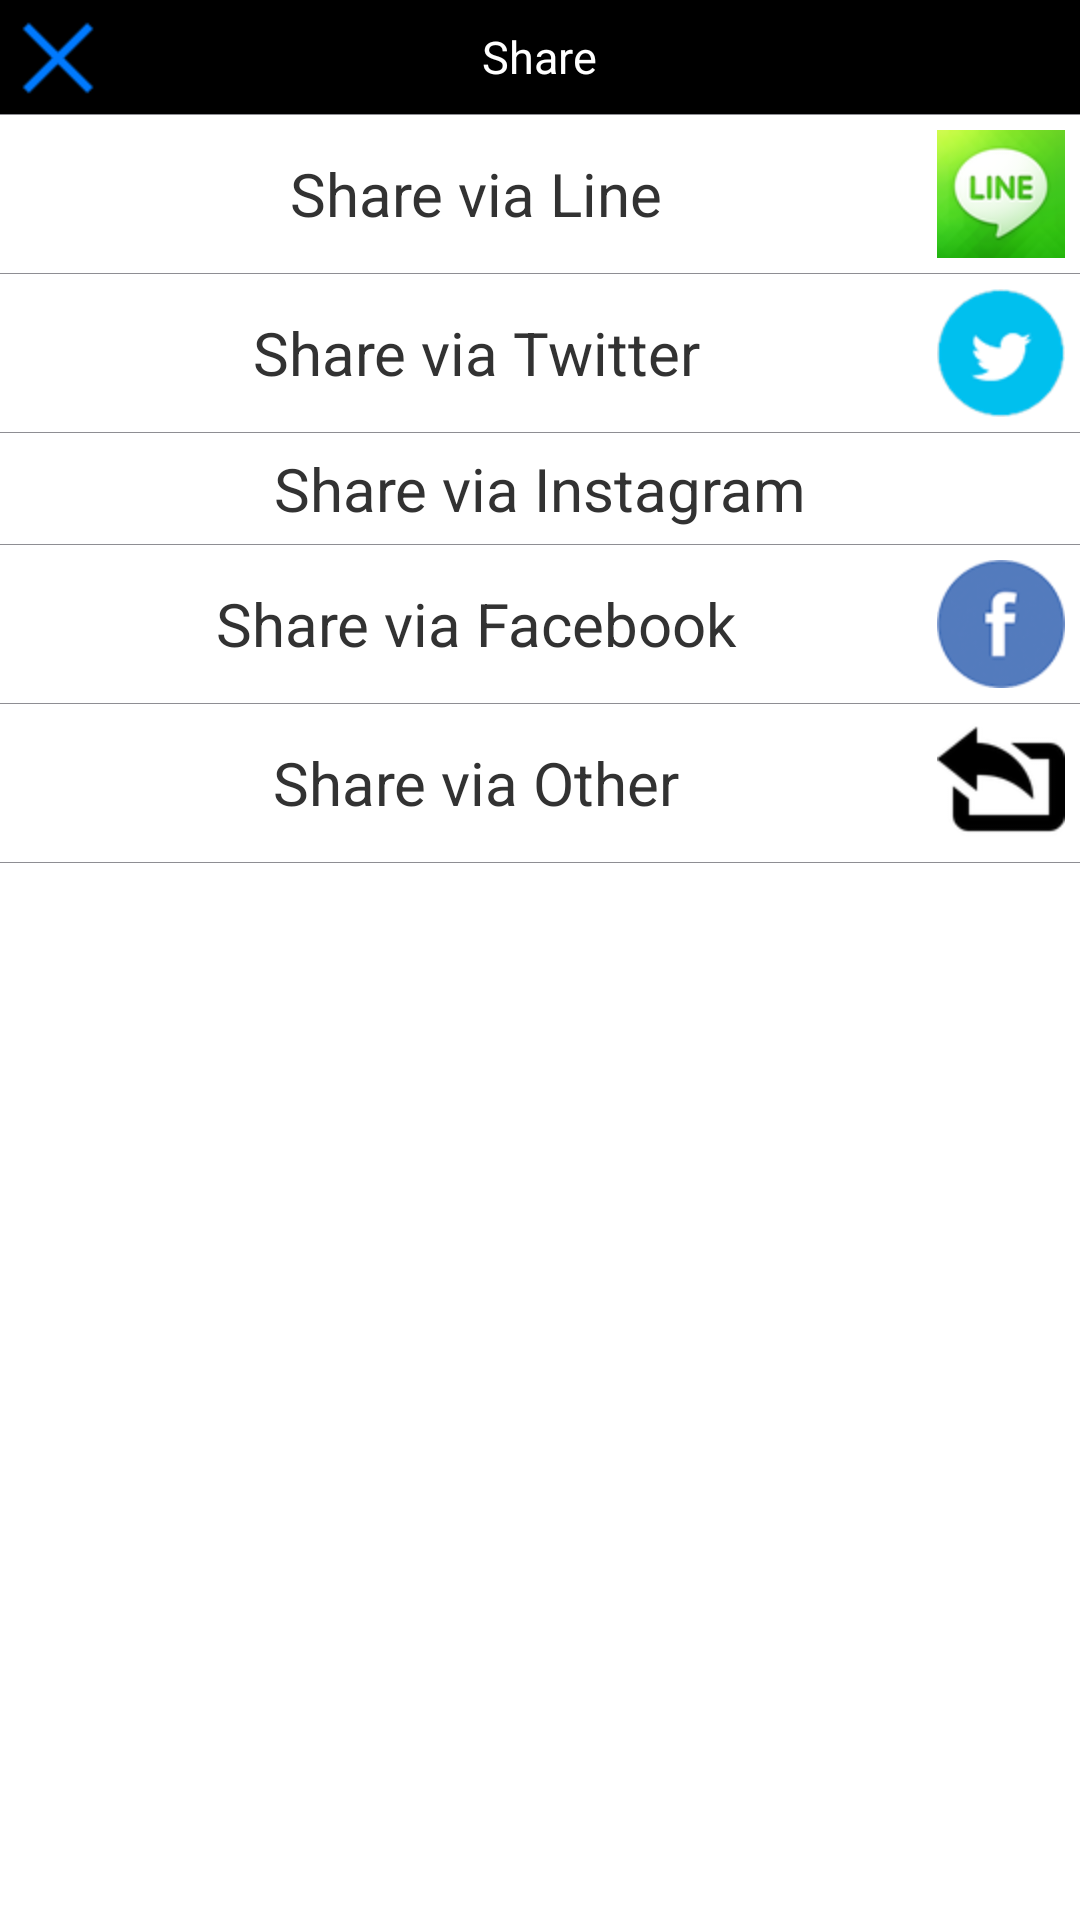

Where to tap for icons on this 1080px x 1920px app screen, as [x,y]:
close: [58,58]
